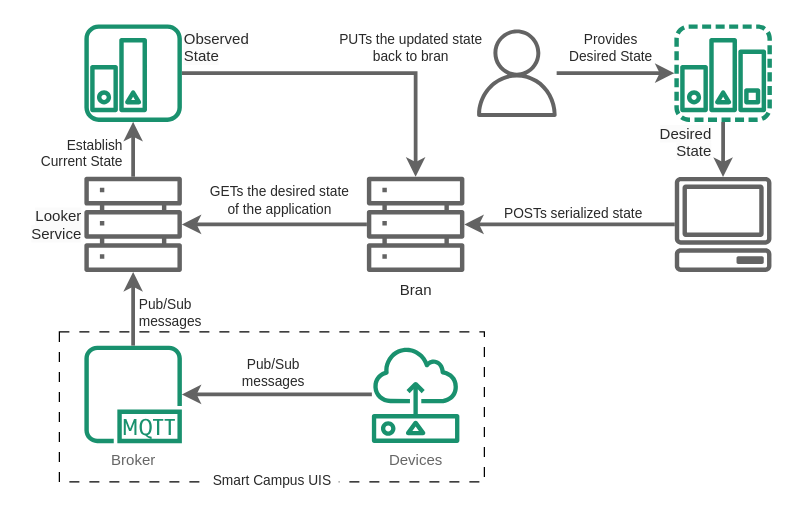
Some shapes in this 793 by 513 pixel diagram are drawn without their labels. Here are the shapes that lost their labels. From the top down, the centre of each, then its label:
At pixel 516 72: "User".
At pixel 722 223: "Lexical".
